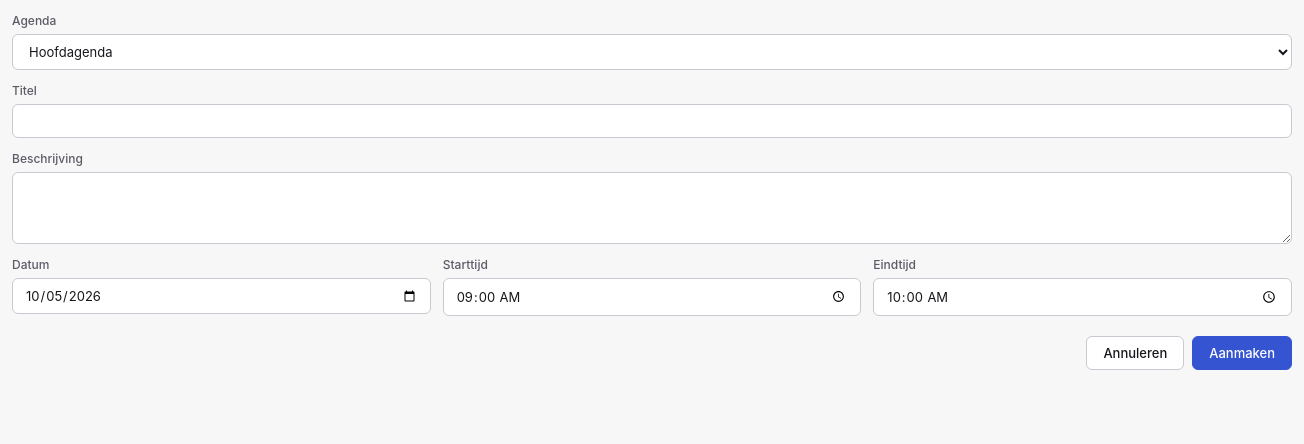
Test: CalendarEventForm › shows the real API error on a failed submit
Type "Will fail" into the field labelled "Titel".
click(652, 121); type("Will fail")  # box [12,104,1292,138]
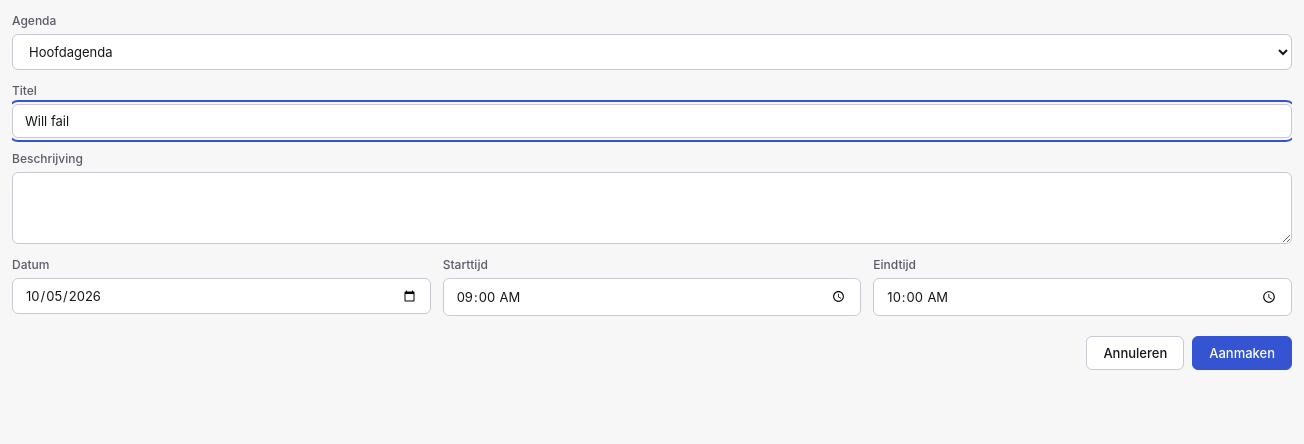
Click the button "Aanmaken".
click(1242, 353)  # box [1192,336,1292,370]
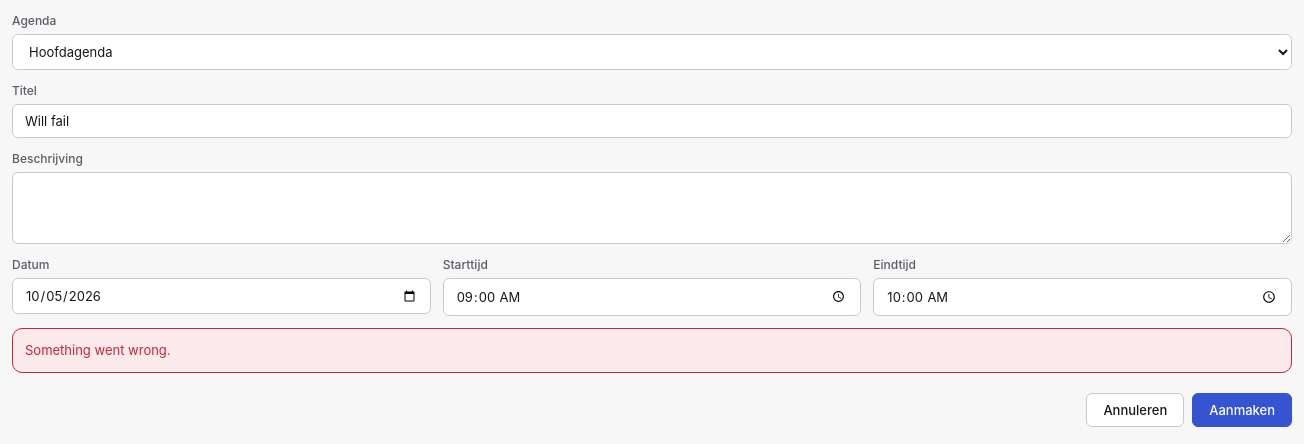
Check: the text "Something went wrong." is shown, box [25,342,171,358]
